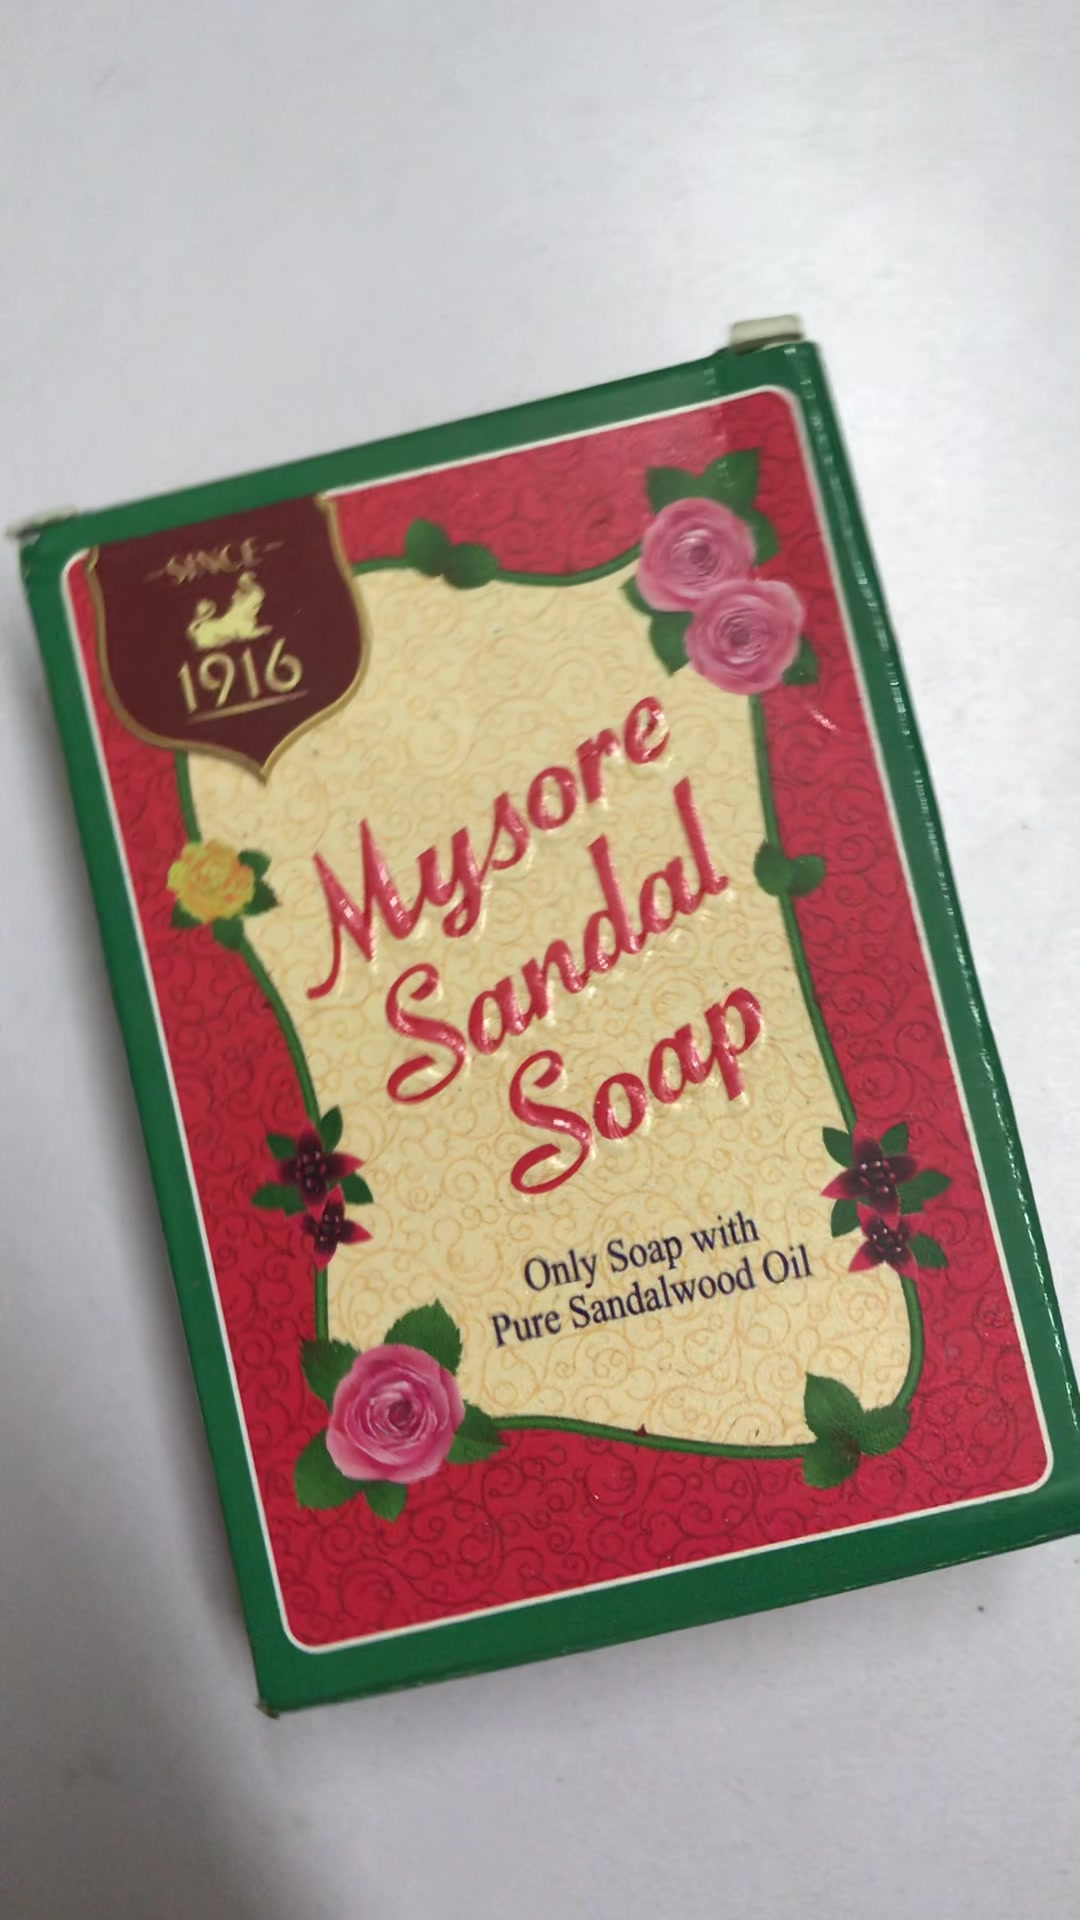mysore sandal soap: (24, 331, 1080, 1705)
